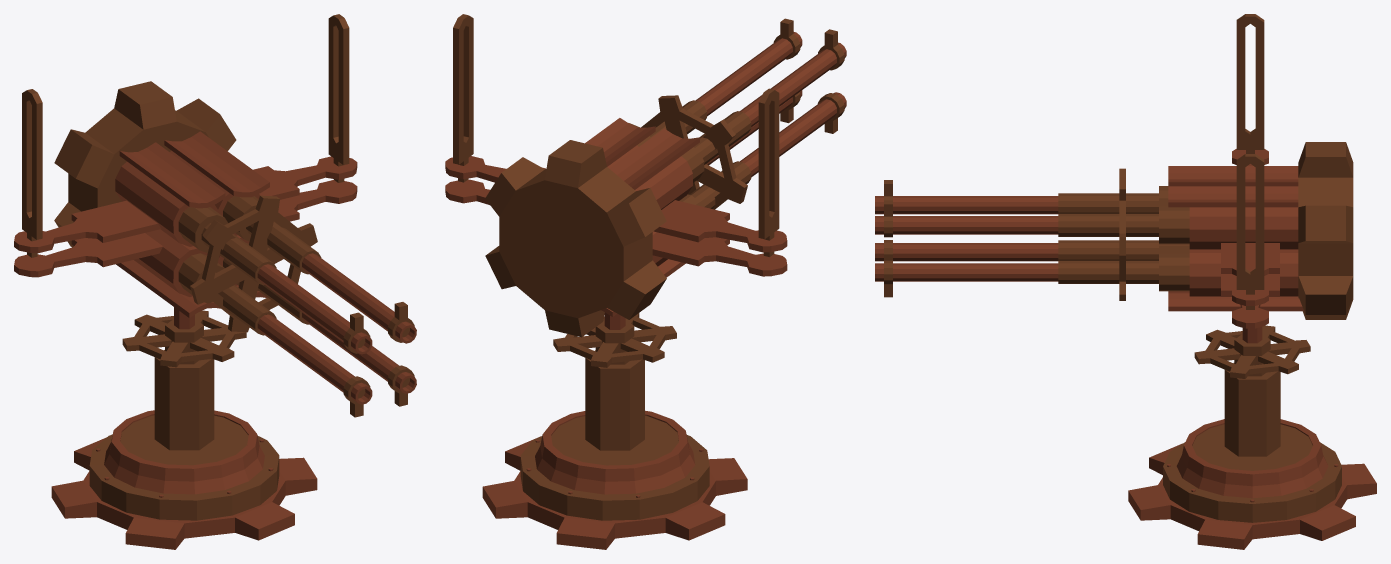
File: Gun_9.glb
The picture shows the model from 3 angles, left to right: view 1: azimuth 30°, elevation 25°; view 2: azimuth 150°, elevation 25°; view 3: azimuth 270°, elevation 25°; orthographic projection. The views are drawn at different scales.
Visible parts, largest first — view 1: Gun_9_Gun, Gun_9_Base, Gun_9_Mid; view 2: Gun_9_Gun, Gun_9_Base, Gun_9_Mid; view 3: Gun_9_Gun, Gun_9_Base, Gun_9_Mid.
Part boxes in pixels (x1,y1,x2,y2): Gun_9_Gun: (14, 14, 416, 417); Gun_9_Base: (51, 410, 317, 549); Gun_9_Mid: (122, 307, 246, 450); Gun_9_Gun: (445, 14, 846, 337); Gun_9_Base: (482, 410, 747, 549); Gun_9_Mid: (553, 312, 676, 450); Gun_9_Gun: (875, 14, 1353, 328); Gun_9_Base: (1128, 419, 1376, 549); Gun_9_Mid: (1194, 325, 1310, 456).
Bounding box in the file's own units: 2.02 × 2.53 × 2.78.
